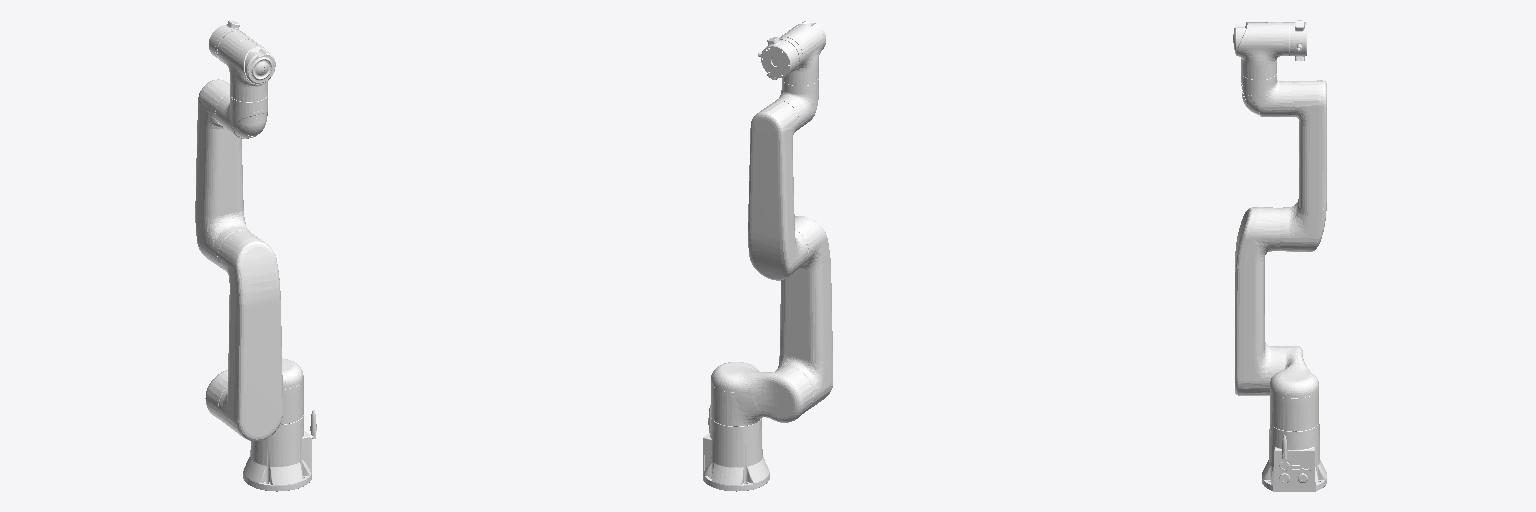
URDF robot description (ECO65-B):
<?xml version="1.0" encoding="utf-8"?>
<!-- This URDF was automatically created by SolidWorks to URDF Exporter! Originally created by [author] ([email redacted]) 
     Commit Version: 1.6.0-1-g15f4949  Build Version: 1.6.7594.29634
     For more information, please see http://wiki.ros.org/sw_urdf_exporter -->
<robot
  name="ECO65-B">
  <link
    name="base_link">
    <inertial>
      <origin
        xyz="0.0004101 -8.4575E-05 0.050471"
        rpy="0 0 0" />
      <mass
        value="2" />
      <inertia
        ixx="0.0011075"
        ixy="-3.3776E-06"
        ixz="2.5165E-05"
        iyy="0.001109"
        iyz="-1.7082E-06"
        izz="0.00075402" />
    </inertial>
    <visual>
      <origin
        xyz="0 0 0"
        rpy="0 0 0" />
      <geometry>
        <mesh
          filename="../meshes/base_link.STL" />
      </geometry>
      <material
        name="">
        <color
          rgba="1 1 1 1" />
      </material>
    </visual>
    <collision>
      <origin
        xyz="0 0 0"
        rpy="0 0 0" />
      <geometry>
        <mesh
          filename="../meshes/base_link.STL" />
      </geometry>
    </collision>
  </link>
  <link
    name="link_1">
    <inertial>
      <origin
        xyz="-1.105E-02 2.736E-05 -3.347E-02"
        rpy="0 0 0" />
      <mass
        value="1.507" />
      <inertia
        ixx="1.958E-03"
        ixy="-2.333E-05"
        ixz="5.324E-04"
        iyy="3.101E-03"
        iyz="9.135E-06"
        izz="2.427E-03" />
    </inertial>
    <visual>
      <origin
        xyz="0 0 0"
        rpy="0 0 0" />
      <geometry>
        <mesh
          filename="../meshes/link_1.STL" />
      </geometry>
      <material
        name="">
        <color
          rgba="1 1 1 1" />
      </material>
    </visual>
    <collision>
      <origin
        xyz="0 0 0"
        rpy="0 0 0" />
      <geometry>
        <mesh
          filename="../meshes/link_1.STL" />
      </geometry>
    </collision>
  </link>
  <joint
    name="joint_1"
    type="revolute">
    <origin
      xyz="0 0 0.1625"
      rpy="0 0 0" />
    <parent
      link="base_link" />
    <child
      link="link_1" />
    <axis
      xyz="0 0 1" />
    <limit
      lower="-3.106"
      upper="3.106"
      effort="60"
      velocity="3.14" />
  </joint>
  <link
    name="link_2">
    <inertial>
      <origin
        xyz="5.818E-02 -1.163E-05 -5.236E-02"
        rpy="0 0 0" />
      <mass
        value="2.0227" />
      <inertia
        ixx="2.274E-03"
        ixy="-6.214E-06"
        ixz="1.441559E-03"
        iyy="1.731147E-02"
        iyz="-2.9598E-06"
        izz="1.7225523E-02" />
    </inertial>
    <visual>
      <origin
        xyz="0 0 0"
        rpy="0 0 0" />
      <geometry>
        <mesh
          filename="../meshes/link_2.STL" />
      </geometry>
      <material
        name="">
        <color
          rgba="1 1 1 1" />
      </material>
    </visual>
    <collision>
      <origin
        xyz="0 0 0"
        rpy="0 0 0" />
      <geometry>
        <mesh
          filename="../meshes/link_2.STL" />
      </geometry>
    </collision>
  </link>
  <joint
    name="joint_2"
    type="revolute">
    <origin
      xyz="-0.086 0 0"
      rpy="0 -1.5708 -1.5708" />
    <parent
      link="link_1" />
    <child
      link="link_2" />
    <axis
      xyz="0 0 1" />
    <limit
      lower="-3.106"
      upper="2.356"
      effort="60"
      velocity="3.14" />
  </joint>
  <link
    name="link_3">
    <inertial>
      <origin
        xyz="9.2768E-02 -9.3866E-05 1.81E-03"
        rpy="0 0 0" />
      <mass
        value="1.8858" />
      <inertia
        ixx="1.9164989E-03"
        ixy="-3.27E-06"
        ixz="-1.6941203E-03"
        iyy="2.2483104E-02"
        iyz="4.50616E-06"
        izz="2.1892837E-02" />
    </inertial>
    <visual>
      <origin
        xyz="0 0 0"
        rpy="0 0 0" />
      <geometry>
        <mesh
          filename="../meshes/link_3.STL" />
      </geometry>
      <material
        name="">
        <color
          rgba="1 1 1 1" />
      </material>
    </visual>
    <collision>
      <origin
        xyz="0 0 0"
        rpy="0 0 0" />
      <geometry>
        <mesh
          filename="../meshes/link_3.STL" />
      </geometry>
    </collision>
  </link>
  <joint
    name="joint_3"
    type="revolute">
    <origin
      xyz="0.26 0 0"
      rpy="0 0 0" />
    <parent
      link="link_2" />
    <child
      link="link_3" />
    <axis
      xyz="0 0 1" />
    <limit
      lower="-2.792"
      upper="2.53"
      effort="30"
      velocity="3.14" />
  </joint>
  <link
    name="link_4">
    <inertial>
      <origin
        xyz="-4.028E-05 -3.496E-02 3.8015E-03"
        rpy="0 0 0" />
      <mass
        value="0.57" />
      <inertia
        ixx="4.97615E-04"
        ixy="5.3887E-07"
        ixz="7.046E-07"
        iyy="3.2497E-04"
        iyz="0"
        izz="1.1634E-03" />
    </inertial>
    <visual>
      <origin
        xyz="0 0 0"
        rpy="0 0 0" />
      <geometry>
        <mesh
          filename="../meshes/link_4.STL" />
      </geometry>
      <material
        name="">
        <color
          rgba="1 1 1 1" />
      </material>
    </visual>
    <collision>
      <origin
        xyz="0 0 0"
        rpy="0 0 0" />
      <geometry>
        <mesh
          filename="../meshes/link_4.STL" />
      </geometry>
    </collision>
  </link>
  <joint
    name="joint_4"
    type="revolute">
    <origin
      xyz="0.24 0 -0.05888"
      rpy="0 0 1.5708" />
    <parent
      link="link_3" />
    <child
      link="link_4" />
    <axis
      xyz="0 0 1" />
    <limit
      lower="-3.106"
      upper="3.106"
      effort="10"
      velocity="3.14" />
  </joint>
  <link
    name="link_5">
    <inertial>
      <origin
        xyz="-3.97E-05 2.2647E-02 -7.365E-03"
        rpy="0 0 0" />
      <mass
        value="0.641" />
      <inertia
        ixx="6.2339218E-04"
        ixy="-5.31226E-07"
        ixz="-5.61849E-07"
        iyy="3.9337546E-04"
        iyz="-1.1339817E-04"
        izz="5.5741485E-04" />
    </inertial>
    <visual>
      <origin
        xyz="0 0 0"
        rpy="0 0 0" />
      <geometry>
        <mesh
          filename="../meshes/link_5.STL" />
      </geometry>
      <material
        name="">
        <color
          rgba="1 1 1 1" />
      </material>
    </visual>
    <collision>
      <origin
        xyz="0 0 0"
        rpy="0 0 0" />
      <geometry>
        <mesh
          filename="../meshes/link_5.STL" />
      </geometry>
    </collision>
  </link>
  <joint
    name="joint_5"
    type="revolute">
    <origin
      xyz="0 -0.11 0"
      rpy="1.5708 0 0" />
    <parent
      link="link_4" />
    <child
      link="link_5" />
    <axis
      xyz="0 0 1" />
    <limit
      lower="-3.106"
      upper="3.106"
      effort="10"
      velocity="3.14" />
  </joint>
  <link
    name="link_6">
    <inertial>
      <origin
        xyz="4.478E-04 -2.134E-04 -1.033579E-02"
        rpy="0 0 0" />
      <mass
        value="0.0857" />
      <inertia
        ixx="3.302707E-05"
        ixy="-2.5421576E-06"
        ixz="1.0241783E-07"
        iyy="3.0206675E-05"
        iyz="-8.4126596E-08"
        izz="5.1459675E-05" />
    </inertial>
    <visual>
      <origin
        xyz="0 0 0"
        rpy="0 0 0" />
      <geometry>
        <mesh
          filename="../meshes/link_6.STL" />
      </geometry>
      <material
        name="">
        <color
          rgba="1 1 1 1" />
      </material>
    </visual>
    <collision>
      <origin
        xyz="0 0 0"
        rpy="0 0 0" />
      <geometry>
        <mesh
          filename="../meshes/link_6.STL" />
      </geometry>
    </collision>
  </link>
  <joint
    name="joint_6"
    type="revolute">
    <origin
      xyz="0 0.0795 0"
      rpy="-1.5708 0 0" />
    <parent
      link="link_5" />
    <child
      link="link_6" />
    <axis
      xyz="0 0 1" />
    <limit
      lower="-6.28"
      upper="6.28"
      effort="10"
      velocity="3.14" />
  </joint>
</robot>

--- Render facts (derived) ---
Views: 3 orthographic renders of the robot side by side, from view 1: azimuth 30°, elevation 25°; view 2: azimuth 150°, elevation 25°; view 3: azimuth 270°, elevation 25°.
Robot: ECO65-B — 7 links, 6 joints (6 revolute); root link base_link; default pose: all joints at 0.
Visible links, largest first — view 1: link_2, link_3, base_link, link_5, link_1, link_4; view 2: link_3, link_2, link_1, base_link, link_5, link_6, link_4; view 3: link_2, link_3, link_1, base_link, link_5, link_4, link_6.
Boxes of the visible links, left/top/right/bottom form: link_2: left=218, top=231, right=282, bottom=440; link_3: left=195, top=79, right=249, bottom=267; base_link: left=243, top=410, right=316, bottom=491; link_5: left=218, top=31, right=275, bottom=101; link_1: left=205, top=358, right=303, bottom=424; link_4: left=215, top=93, right=267, bottom=138; link_3: left=748, top=101, right=808, bottom=280; link_2: left=777, top=216, right=832, bottom=408; link_1: left=711, top=362, right=813, bottom=426; base_link: left=703, top=405, right=769, bottom=491; link_5: left=779, top=21, right=825, bottom=85; link_6: left=758, top=37, right=799, bottom=79; link_4: left=775, top=79, right=818, bottom=129; link_2: left=1235, top=207, right=1279, bottom=395; link_3: left=1280, top=80, right=1326, bottom=251; link_1: left=1270, top=346, right=1318, bottom=431; base_link: left=1262, top=424, right=1326, bottom=491; link_5: left=1233, top=22, right=1289, bottom=79; link_4: left=1241, top=74, right=1291, bottom=116; link_6: left=1290, top=20, right=1306, bottom=60.
Size in the robot's own frame: 0.1895 by 0.1584 by 0.8092 metres.
Meshes: 7 distinct files referenced, 7 mesh visuals loaded (7 binary STL).
